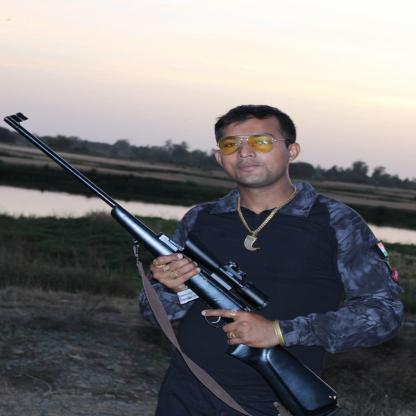rifle: (1, 109, 344, 416)
